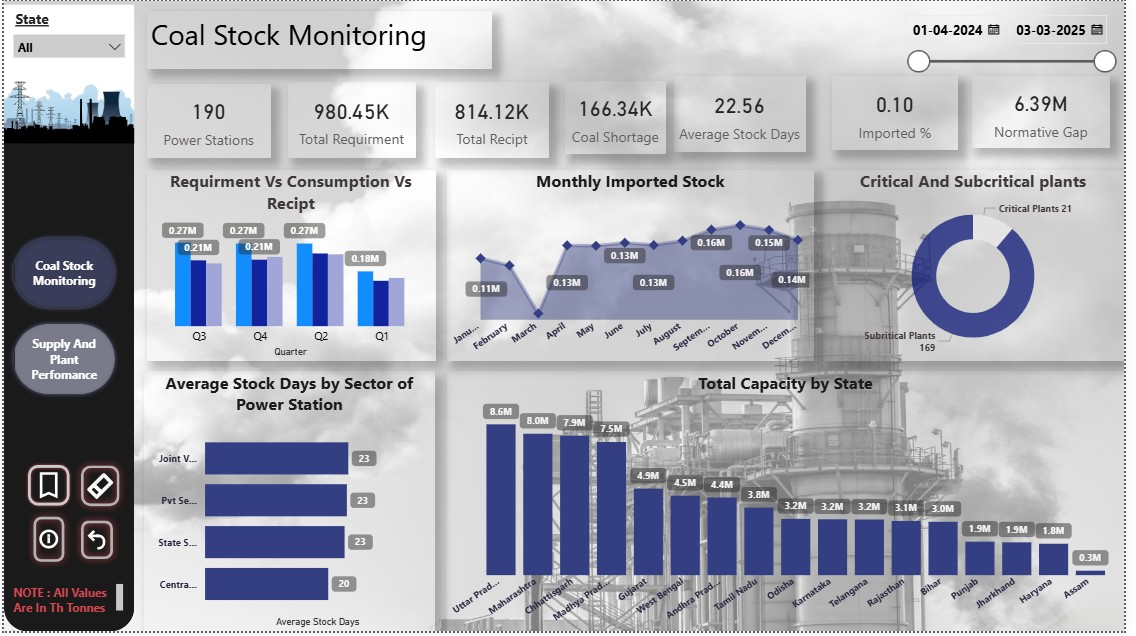

The dashboard page shown, as its layout file describes it:
{"tool":"powerbi","page":{"name":"Coal Stock Monitoring","canvas":[1280,720],"ordinal":1},"visuals":[{"type":"slicer","fields":{"Values":["Calender.Date"]},"box":[1017.8,5.6,262.4,83.3],"z":0},{"type":"card","fields":{"Values":["Coal Measures.Total Requirment"]},"box":[326.2,93.8,142.5,85],"z":1000},{"type":"card","fields":{"Values":["Coal Measures.Total Recipt"]},"box":[483.8,92.5,142,85],"z":2000},{"type":"textbox","box":[162.5,5,620,72.5],"z":3000},{"type":"card","fields":{"Values":["Coal Measures.Power Stations"]},"box":[162.5,93.8,142,85],"z":4000},{"type":"card","fields":{"Values":["Coal Measures.Coal Shortage"]},"box":[640,93.8,142,85],"z":5000},{"type":"card","fields":{"Values":["Coal Measures.Average Stock Days"]},"box":[806.2,93.8,142,85],"z":6000},{"type":"card","fields":{"Values":["Coal Measures.Imported %"]},"box":[973.8,93.8,142,85],"z":7000},{"type":"clusteredBarChart","fields":{"Category":["Coal.Sector of Power Station"],"Y":["Coal Measures.Average Stock Days"]},"box":[160,422.5,332.5,297.5],"z":8000},{"type":"stackedAreaChart","title":"Monthly Imported Stock","fields":{"Category":["Calender.Month"],"Y":["Coal Measures.Total Imported"]},"box":[505,192.5,443.8,218.8],"z":9000},{"type":"clusteredColumnChart","title":"Total Capacity by State","fields":{"Category":["Coal.State Name"],"Y":["Sum(Coal.Capacity of Power Station In Th Tonnes)"]},"box":[505,422.5,766.2,297.5],"z":10000},{"type":"slicer","fields":{"Values":["Coal.State Name"]},"box":[0,3.8,148.8,85],"z":11000},{"type":"clusteredColumnChart","title":"Requirment Vs Consumption Vs Recipt","fields":{"Category":["Calender.Qtr"],"Y":["Coal Measures.Total Requirment","Sum(Coal.Daily Consumption In Th Tonnes)","Coal Measures.Total Recipt"]},"box":[162.3,192.5,329.6,218.9],"z":13000},{"type":"shape","box":[0,102.5,148.8,617.5],"z":14000},{"type":"pageNavigator","box":[6.2,265,126.2,188.8],"z":15000},{"type":"image","box":[0,77.5,148.8,93.8],"z":16000},{"type":"card","fields":{"Values":["Coal Measures.Normative Gap"]},"box":[1141.2,92.5,130,85],"z":17000},{"type":"actionButton","box":[23.8,527.5,53.8,52.5],"z":18000},{"type":"actionButton","box":[26.2,581.2,51.2,67.5],"z":19000},{"type":"actionButton","box":[80,522.5,60,62.5],"z":20000},{"type":"actionButton","box":[80,585,52.5,60],"z":21000},{"type":"textbox","box":[6.2,661.2,135,42.5],"z":22000},{"type":"pieChart","title":"Capacity By Sectors","fields":{"Category":["Sectors.Sector of Power Station"],"Y":["Sum(Coal.Capacity of Power Station In Th Tonnes)"]},"box":[973.8,192.5,297.5,218.8],"z":24000}]}

Visuals, with their boxes on the page's 1280x720 design canvas (x1, y1, x2, y2). These are canvas units, not pixel positions in the 1136x636 screenshot, which may show the page scaled, cropped or inside an application window:
slicer - Calender.Date: [1018, 6, 1280, 89]
card - Coal Measures.Total Requirment: [326, 94, 469, 179]
card - Coal Measures.Total Recipt: [484, 92, 626, 178]
textbox: [162, 5, 782, 78]
card - Coal Measures.Power Stations: [162, 94, 304, 179]
card - Coal Measures.Coal Shortage: [640, 94, 782, 179]
card - Coal Measures.Average Stock Days: [806, 94, 948, 179]
card - Coal Measures.Imported %: [974, 94, 1116, 179]
clusteredBarChart - Coal.Sector of Power Station x Coal Measures.Average Stock Days: [160, 422, 492, 720]
"Monthly Imported Stock" stackedAreaChart: [505, 192, 949, 411]
"Total Capacity by State" clusteredColumnChart: [505, 422, 1271, 720]
slicer - Coal.State Name: [0, 4, 149, 89]
"Requirment Vs Consumption Vs Recipt" clusteredColumnChart: [162, 192, 492, 411]
shape: [0, 102, 149, 720]
pageNavigator: [6, 265, 132, 454]
image: [0, 78, 149, 171]
card - Coal Measures.Normative Gap: [1141, 92, 1271, 178]
actionButton: [24, 528, 78, 580]
actionButton: [26, 581, 77, 649]
actionButton: [80, 522, 140, 585]
actionButton: [80, 585, 132, 645]
textbox: [6, 661, 141, 704]
"Capacity By Sectors" pieChart: [974, 192, 1271, 411]
